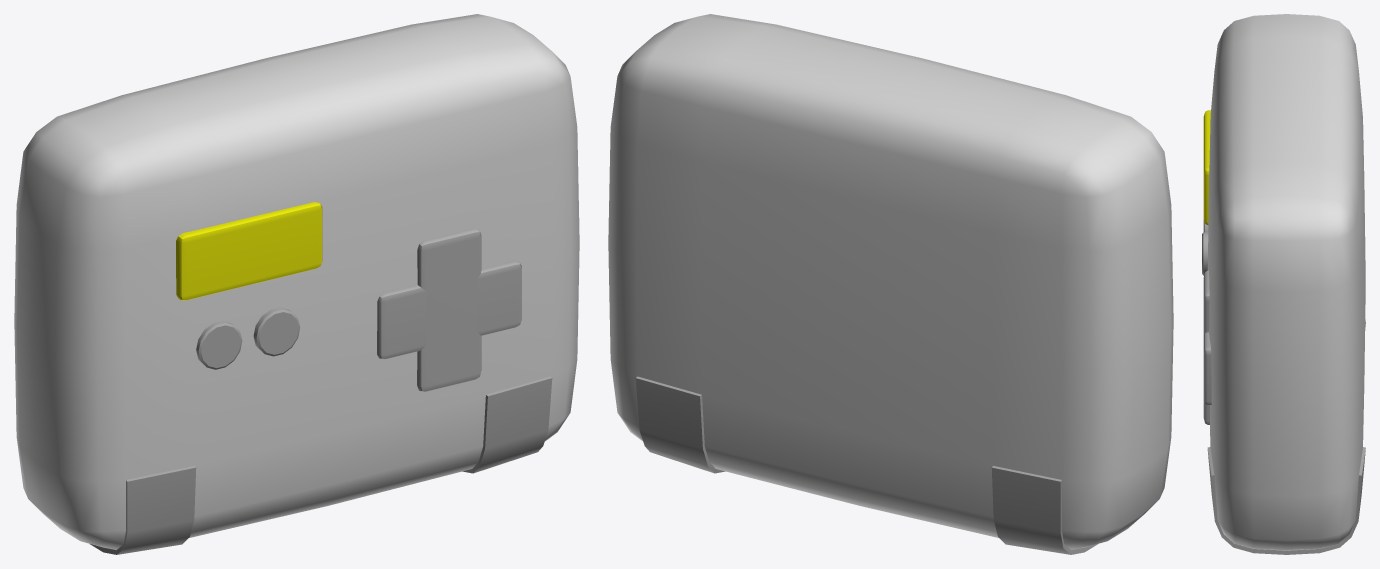
The model's file is Dispositivo.fbx.
3 renders of one model, left to right at view 1: azimuth 30°, elevation 25°; view 2: azimuth 150°, elevation 25°; view 3: azimuth 270°, elevation 25°, orthographic. The views are drawn at different scales.
Visible parts, largest first — view 1: Dispositivo; view 2: Dispositivo; view 3: Dispositivo.
Boxes of the visible parts, <box> form: Dispositivo: <box>14,14,579,554</box>; Dispositivo: <box>608,14,1173,554</box>; Dispositivo: <box>1202,14,1365,554</box>.
Size of the model in its own units: 17.92 by 13.77 by 5.49.
